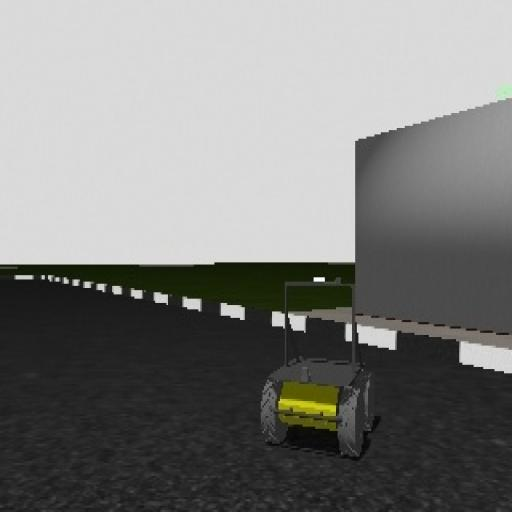huskya200: (253, 268, 390, 487)
